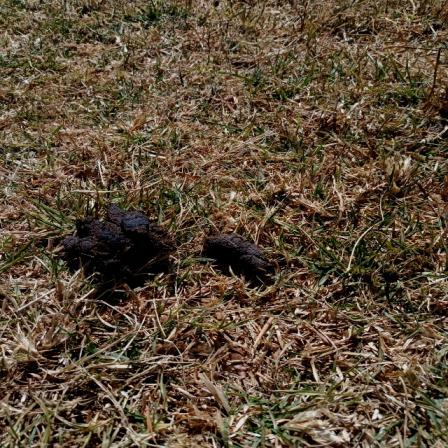dog-poop: (46, 195, 180, 297), (199, 221, 285, 290)
